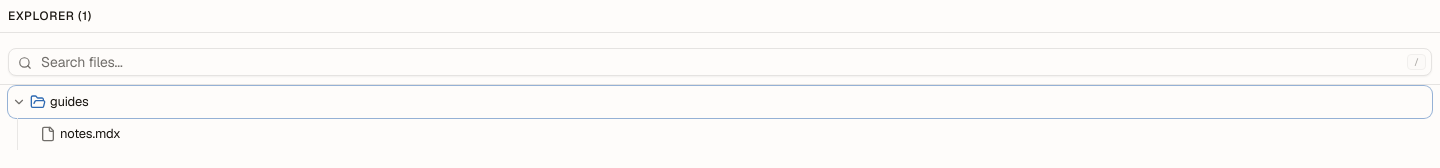
FileTree route document rows › keeps ordinary folders expandable and ordinary files draggable and renameable
The image size is (1440, 168).
Check: the icon with class "lucide-chevron-down" is shown, box [12,95,26,109]
Right-click the button titled "notes.mdx".
right_click(90, 133)  # box [8,118,1432,150]
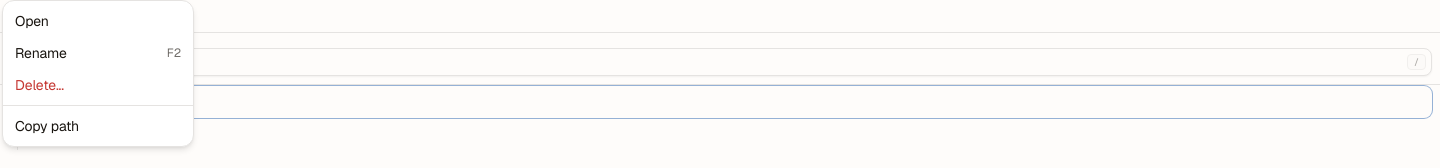
Check: the menu item "Rename F2" is shown, box [15,44,181,62]
